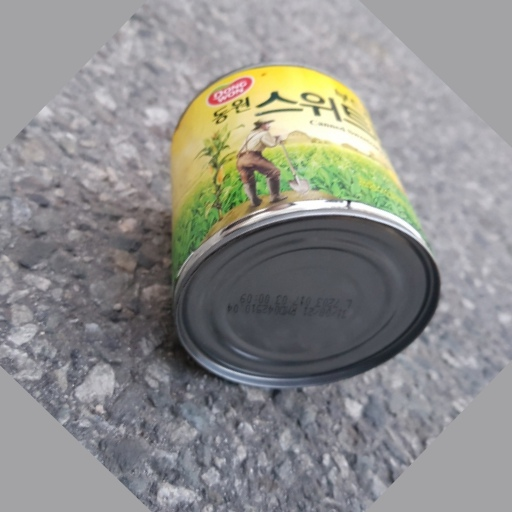Metal_1: (167, 62, 442, 388)
